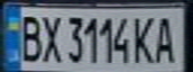1: (96, 14, 115, 63), (81, 14, 100, 63)
3: (63, 12, 84, 63)
4: (112, 12, 133, 64)
A: (151, 12, 181, 64)
B: (15, 11, 45, 63)
K: (130, 12, 157, 64)
X: (36, 11, 63, 63)
